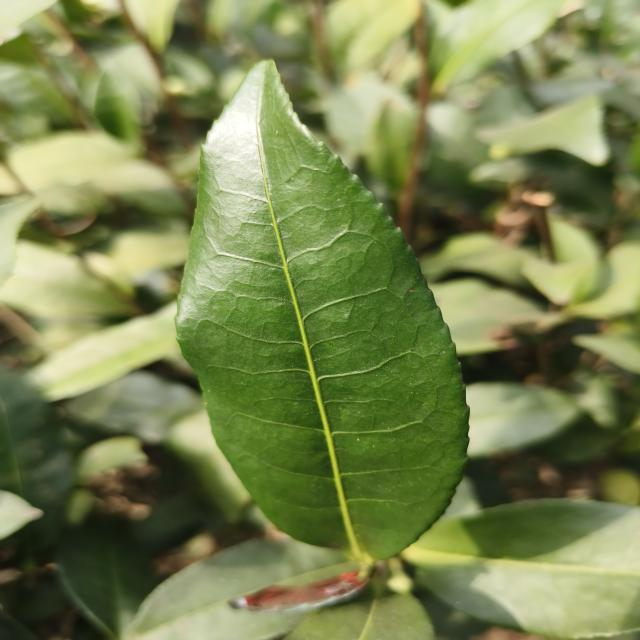Leaf: (176, 61, 467, 561), (405, 499, 640, 640), (126, 539, 352, 640), (29, 302, 179, 401), (0, 368, 74, 549), (424, 0, 565, 94), (57, 518, 155, 640), (478, 95, 609, 166), (466, 382, 581, 458), (286, 593, 434, 640), (0, 62, 71, 123), (95, 71, 140, 142)
